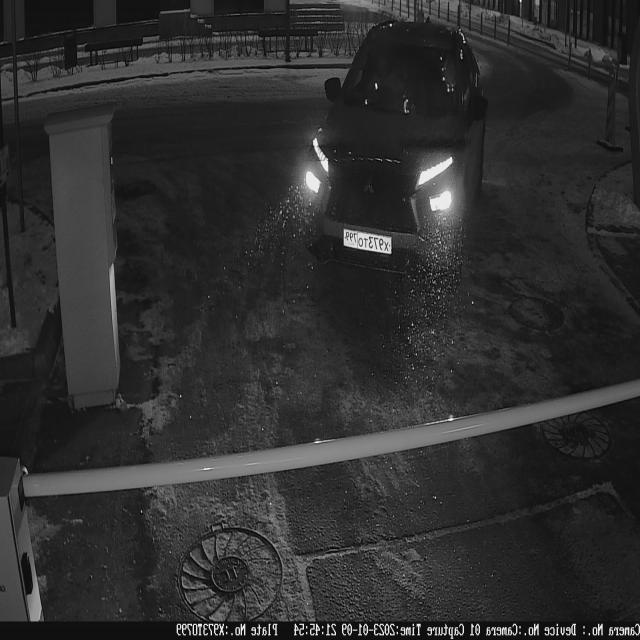car-plate-numbers: (343, 223, 395, 259)
